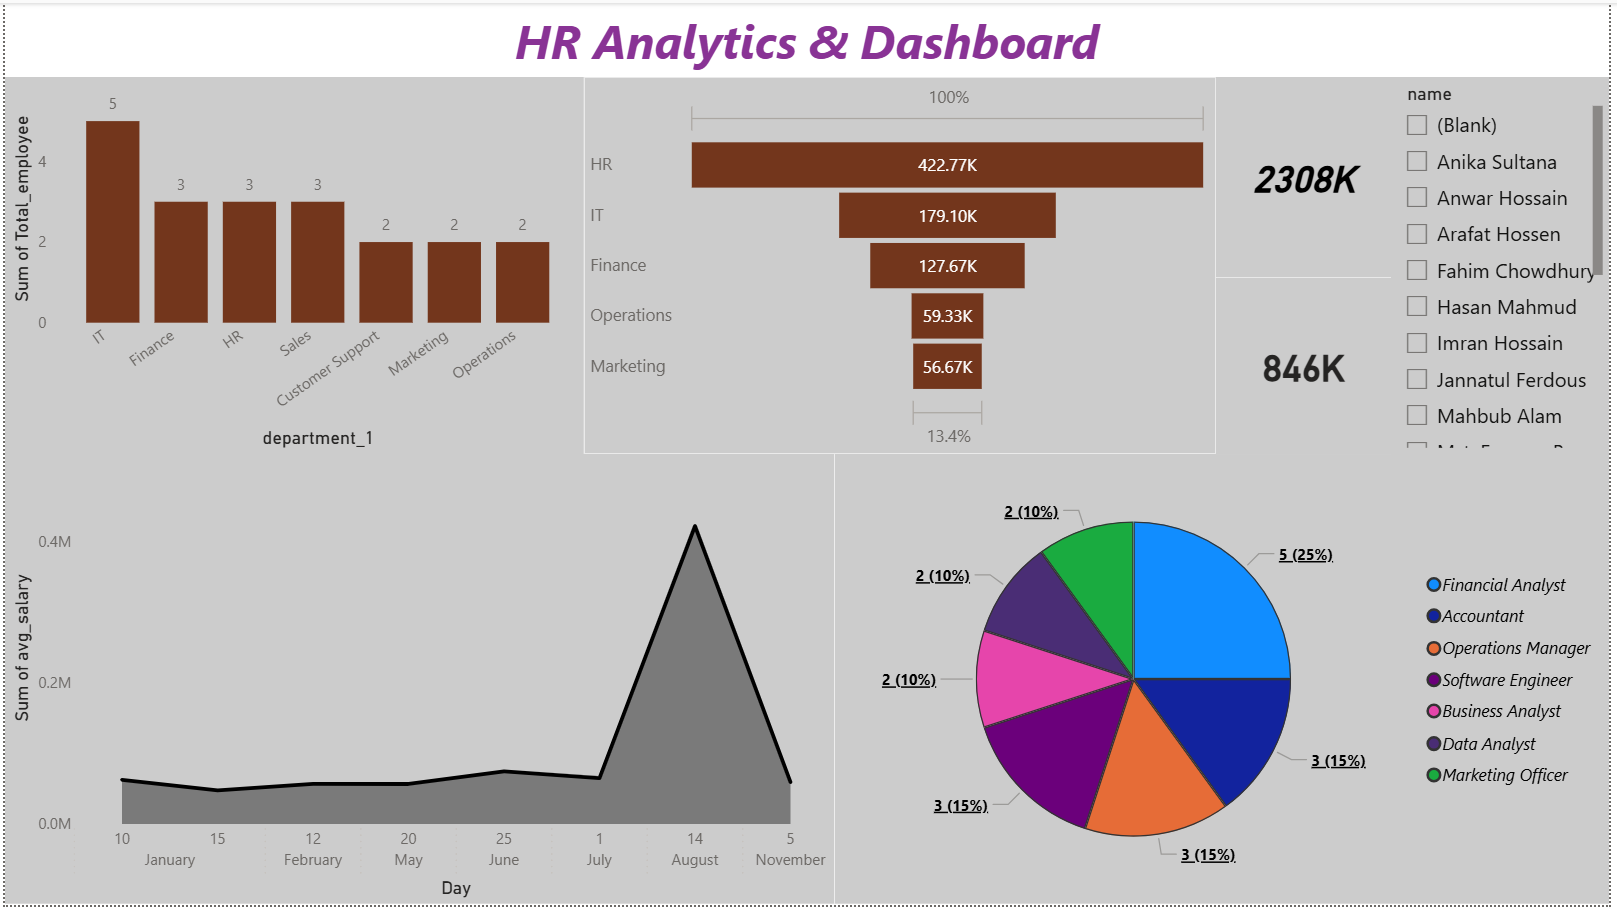

What the dashboard file says about the page in this screenshot:
{"tool":"powerbi","page":{"name":"Page 1","canvas":[1280,720],"ordinal":0},"visuals":[{"type":"columnChart","fields":{"Category":["Sheet8.department_1"],"Y":["Sheet8.Total_employee"]},"box":[0,59.2,462.4,301.1],"z":0},{"type":"funnel","fields":{"Category":["Sheet8.department"],"Y":["Sheet8.avg_salary"]},"box":[462.4,59.2,504.2,301.1],"z":1000},{"type":"areaChart","fields":{"Y":["Sheet8.avg_salary"],"Category":["Sheet8.hire_date.Variation.Date Hierarchy.Month","Sheet8.hire_date.Variation.Date Hierarchy.Day"]},"box":[0,360.3,662.5,359.3],"z":2000},{"type":"pieChart","fields":{"Y":["Sheet8.Total_employee"],"Category":["Sheet8.job_title"]},"box":[662.5,360.3,617.5,359.3],"z":3000},{"type":"card","fields":{"Values":["Sheet8.Salary"]},"box":[966.6,59.2,139.8,160.3],"z":4000},{"type":"card","fields":{"Values":["Sheet8.avg_salary"]},"box":[966.6,219.5,139.8,140.9],"z":5000},{"type":"slicer","fields":{"Values":["Sheet8.name"]},"box":[1106.5,59.2,173.5,301.1],"z":6000},{"type":"textbox","box":[0,0,1280,59.2],"z":7000}]}

Visuals, with their boxes in screenshot pixels (x1, y1, x2, y2), scaled from the page's 1280x720 canvas onto the 1617x910 screenshot:
columnChart - Sheet8.department_1 x Sheet8.Total_employee: <box>0,75,584,455</box>
funnel - Sheet8.department x Sheet8.avg_salary: <box>584,75,1221,455</box>
areaChart - Sheet8.avg_salary x Sheet8.hire_date.Variation.Date Hierarchy.Month: <box>0,455,837,909</box>
pieChart - Sheet8.Total_employee x Sheet8.job_title: <box>837,455,1616,909</box>
card - Sheet8.Salary: <box>1221,75,1398,277</box>
card - Sheet8.avg_salary: <box>1221,277,1398,456</box>
slicer - Sheet8.name: <box>1398,75,1616,455</box>
textbox: <box>0,0,1616,75</box>
